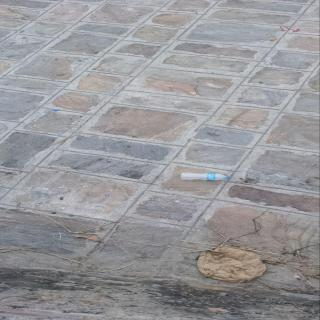Plastic-bottle: (178, 172, 234, 183)
